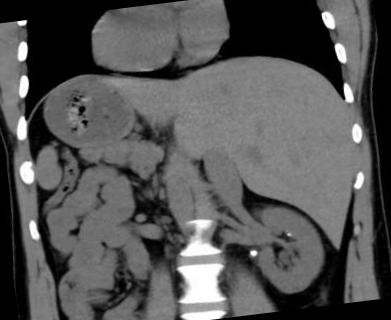Tas_Var: (248, 246, 260, 260), (286, 232, 293, 238), (284, 227, 290, 233)
